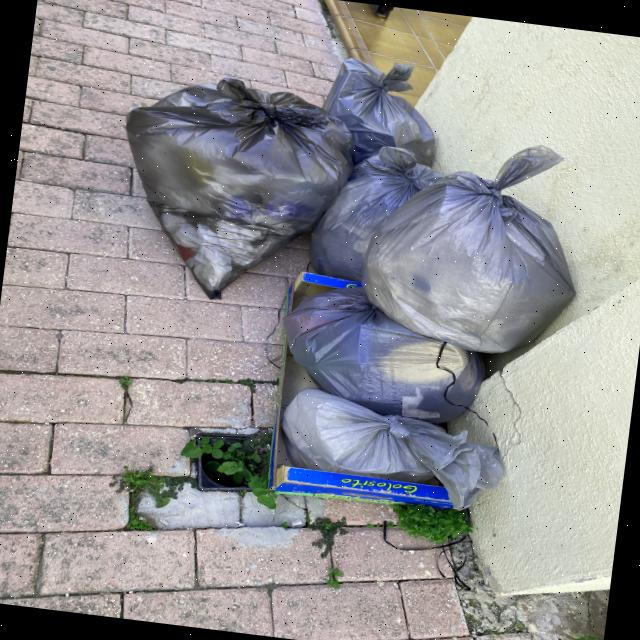Mixed Waste: (100, 62, 360, 318), (356, 120, 596, 366), (268, 276, 491, 431), (272, 382, 523, 513), (303, 139, 458, 293), (316, 51, 456, 174)
